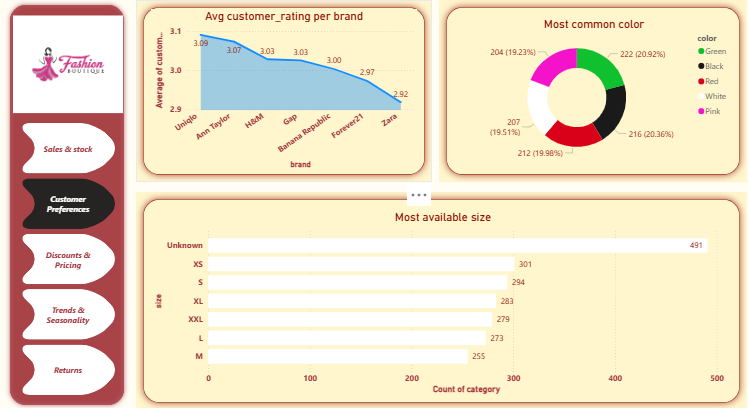

This screenshot's page, from the dashboard's own definition file:
{"tool":"powerbi","page":{"name":"Customer Preferences","canvas":[1280,720],"ordinal":1},"visuals":[{"type":"shape","box":[236.9,337.6,1026.4,366.2],"z":0},{"type":"shape","box":[745.8,15.1,517.4,305.7],"z":1000},{"type":"shape","box":[236.9,15.1,497.2,305.7],"z":2000},{"type":"lineChart","title":"Avg customer_rating per brand","fields":{"Category":["fashion_boutique_dataset.brand"],"Y":["fashion_boutique_dataset.customer_rating"]},"box":[262,30.2,446.8,273.8],"z":3000},{"type":"barChart","title":"Most available size","fields":{"Category":["fashion_boutique_dataset.size"],"Y":["fashion_boutique_dataset.category"]},"box":[262,367.9,981,314.1],"z":4000},{"type":"shape","box":[16.8,15.1,208.3,688.7],"z":5000},{"type":"image","box":[25.2,15.1,194.9,215],"z":6000},{"type":"donutChart","title":" Most common color","fields":{"Category":["fashion_boutique_dataset.color"],"Y":["fashion_boutique_dataset.category"]},"box":[769.3,43.7,473.7,248.6],"z":7000},{"type":"pageNavigator","box":[33.6,221.7,178.1,460.3],"z":8000}]}

Visuals, with their boxes on the page's 1280x720 design canvas (x1, y1, x2, y2). These are canvas units, not pixel positions in the 749x408 screenshot, which may show the page scaled, cropped or inside an application window:
shape: 237,338,1263,704
shape: 746,15,1263,321
shape: 237,15,734,321
"Avg customer_rating per brand" lineChart: 262,30,709,304
"Most available size" barChart: 262,368,1243,682
shape: 17,15,225,704
image: 25,15,220,230
" Most common color" donutChart: 769,44,1243,292
pageNavigator: 34,222,212,682
